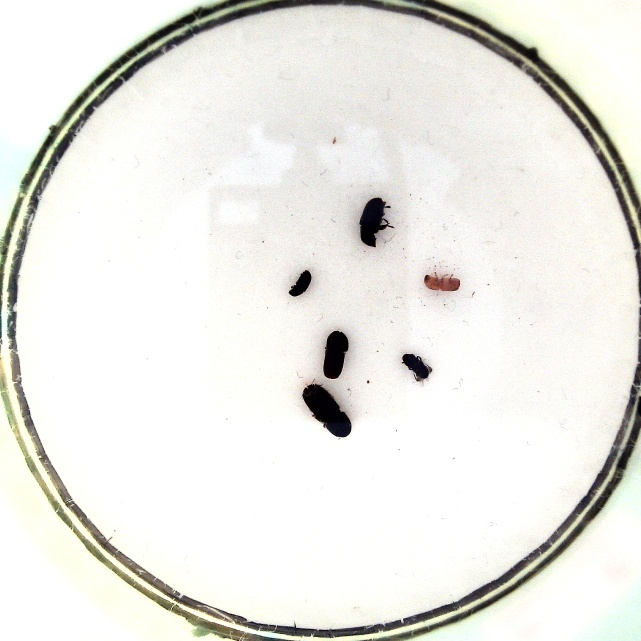acuminatus: (422, 269, 464, 294)
armandi: (355, 193, 394, 249)
boerner: (300, 380, 355, 441)
coleoptera: (401, 351, 437, 386), (287, 267, 316, 299)
linnaeus: (321, 326, 350, 380)
